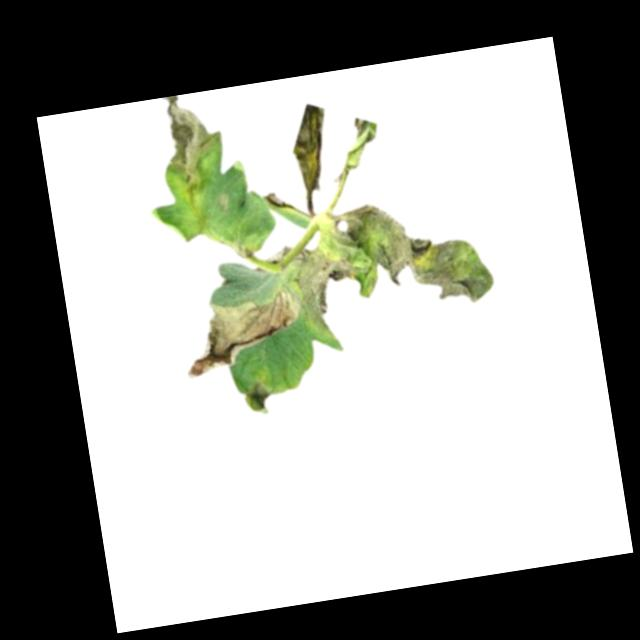Late_blight: (316, 190, 496, 326), (176, 286, 309, 383), (291, 235, 361, 343), (159, 90, 227, 190), (288, 108, 335, 193), (239, 369, 277, 418), (227, 235, 256, 262), (213, 192, 232, 211)
